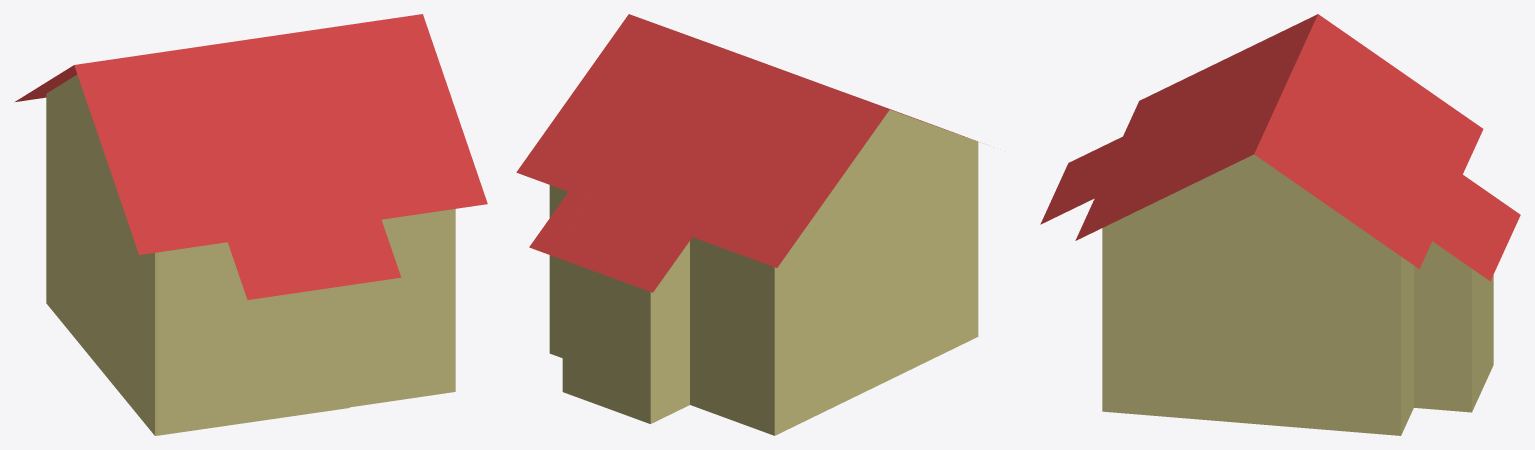
The picture shows the model from 3 angles, left to right: view 1: azimuth 30°, elevation 25°; view 2: azimuth 150°, elevation 25°; view 3: azimuth 270°, elevation 25°; orthographic projection. The views are drawn at different scales.
Size of the model in its own units: 12.86 by 15.51 by 9.96.
